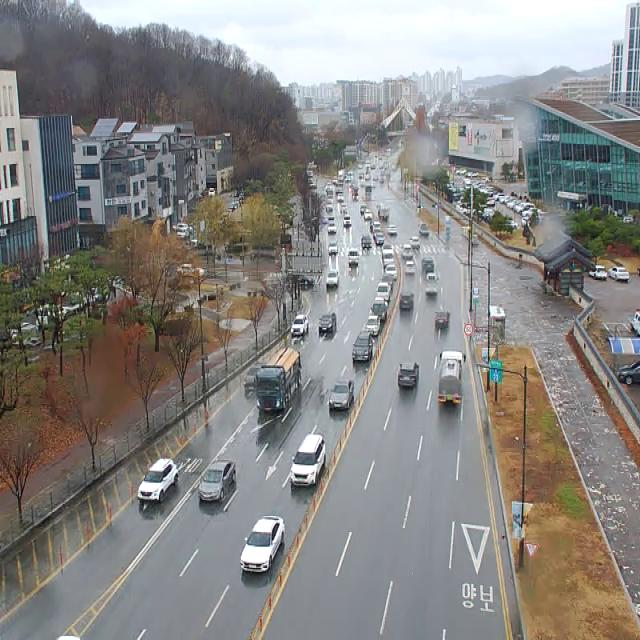Car: (241, 516, 285, 572), (291, 434, 325, 486), (138, 458, 178, 502), (198, 459, 235, 502), (329, 379, 354, 410), (352, 333, 373, 362), (618, 360, 640, 386), (398, 362, 419, 387), (244, 363, 262, 390), (291, 315, 308, 335), (319, 313, 336, 332), (608, 267, 629, 281), (435, 310, 450, 328), (588, 266, 607, 280), (366, 316, 380, 335), (373, 301, 387, 320), (400, 292, 414, 310), (327, 269, 338, 288), (348, 248, 359, 265), (422, 257, 434, 272), (401, 244, 413, 259), (382, 244, 393, 259), (384, 253, 394, 269), (361, 234, 372, 248), (177, 226, 189, 238), (386, 265, 396, 279), (406, 261, 416, 274), (328, 242, 338, 254), (387, 225, 397, 236), (410, 236, 419, 248), (344, 214, 352, 227), (376, 233, 384, 245), (209, 187, 215, 197), (637, 265, 640, 276)
Truck: (256, 347, 300, 411), (438, 350, 466, 404), (426, 273, 439, 296), (377, 282, 391, 302), (630, 309, 640, 336)
